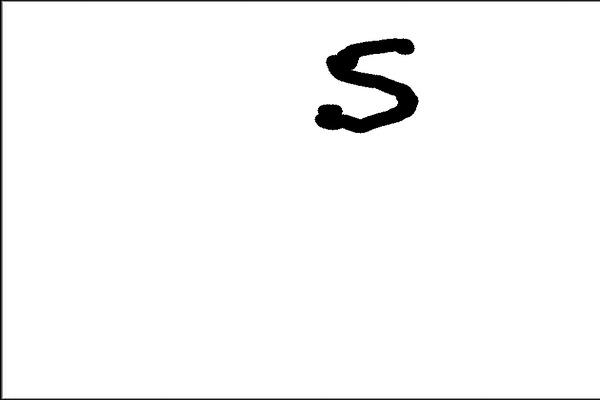S: (308, 32, 426, 140)
